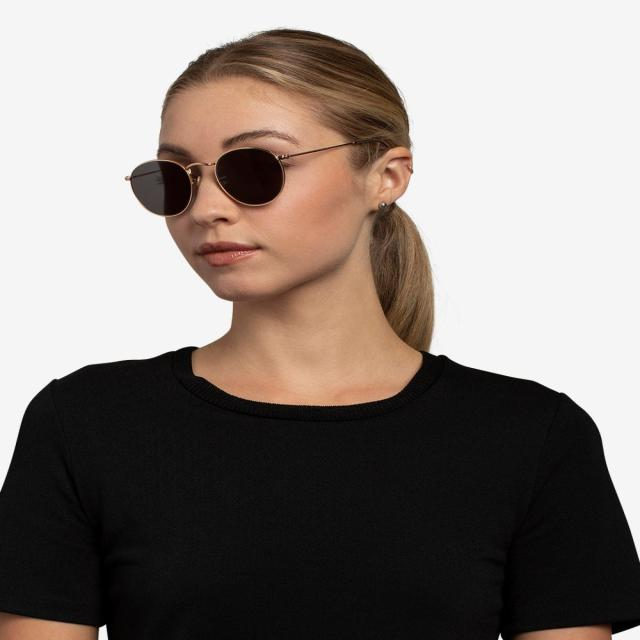2_gafas: (124, 136, 391, 218)
